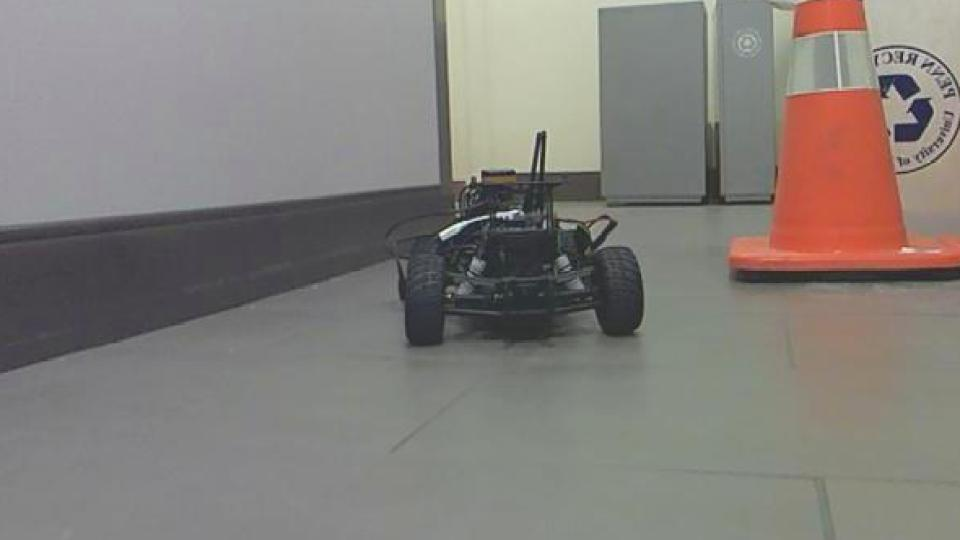car: (382, 128, 648, 348)
